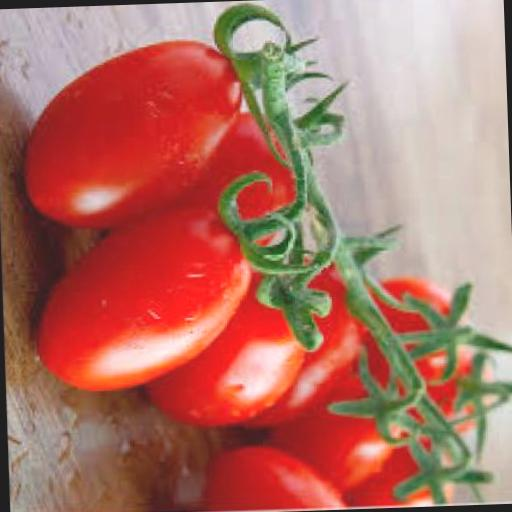biodegradable: (20, 40, 249, 230), (26, 208, 253, 393), (153, 236, 316, 434), (101, 112, 308, 252), (232, 259, 366, 428), (272, 346, 400, 498), (354, 278, 463, 384), (201, 445, 347, 512), (410, 350, 502, 436), (348, 438, 456, 508)
